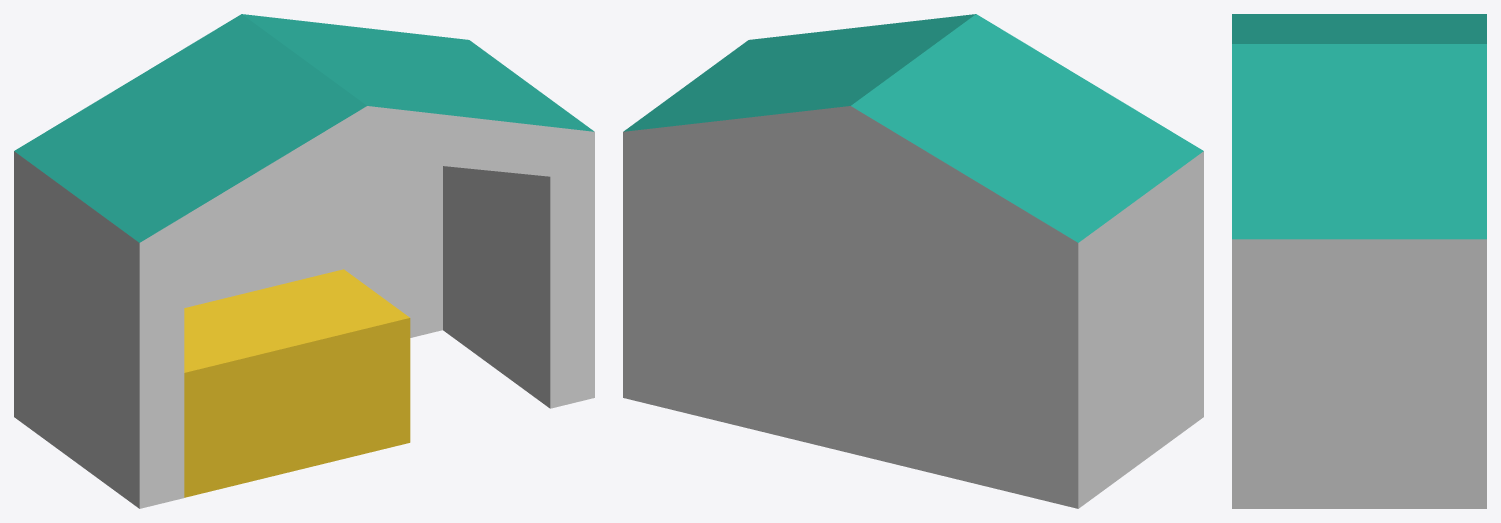
The model's file is stall01_s02.FBX.
The picture shows the model from 3 angles, left to right: view 1: azimuth 30°, elevation 25°; view 2: azimuth 150°, elevation 25°; view 3: azimuth 270°, elevation 25°; orthographic projection.
Visible parts, largest first — view 1: stall01_s02; view 2: stall01_s02; view 3: stall01_s02.
Part boxes in pixels (x1,y1,x2,y2): stall01_s02: (14,14,594,508); stall01_s02: (623,14,1203,508); stall01_s02: (1232,14,1486,508).
Bounding box in the file's own units: 359 × 171 × 262.
Materials: 1 (1 with a texture image).
